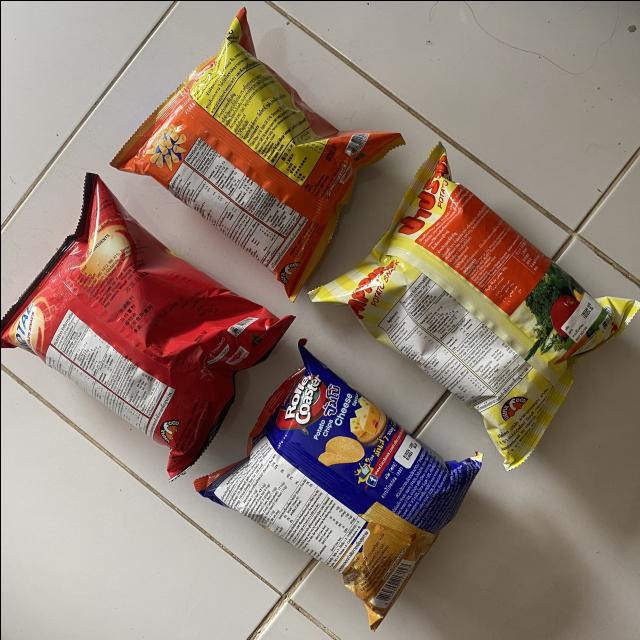plastik: (309, 143, 640, 469), (0, 173, 292, 477), (110, 9, 403, 299), (193, 340, 481, 629)
